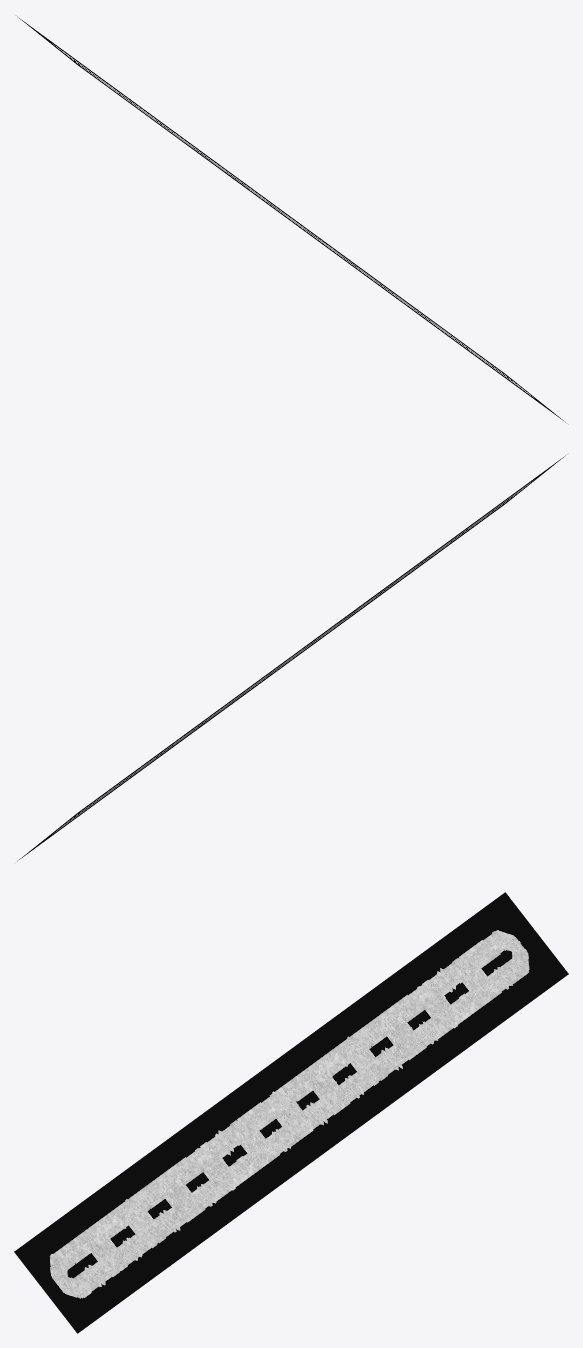
Rendered from surprisingly_awesome_chain.glb.
3 views of the same model, one above another, from view 1: azimuth 30°, elevation 25°; view 2: azimuth 150°, elevation 25°; view 3: azimuth 330°, elevation 25° (orthographic).
Visible parts, largest first — view 1: Plane_1; view 2: Plane_1; view 3: Plane_1.
Boxes of the visible parts, x1,y1,x2,y2 form: Plane_1: [17, 16, 565, 422]; Plane_1: [17, 455, 565, 861]; Plane_1: [14, 892, 568, 1333].
Bounding box in the file's own units: 0.2912 × 0.2912 × 3.9.
Materials: 1 (1 with a texture image).
